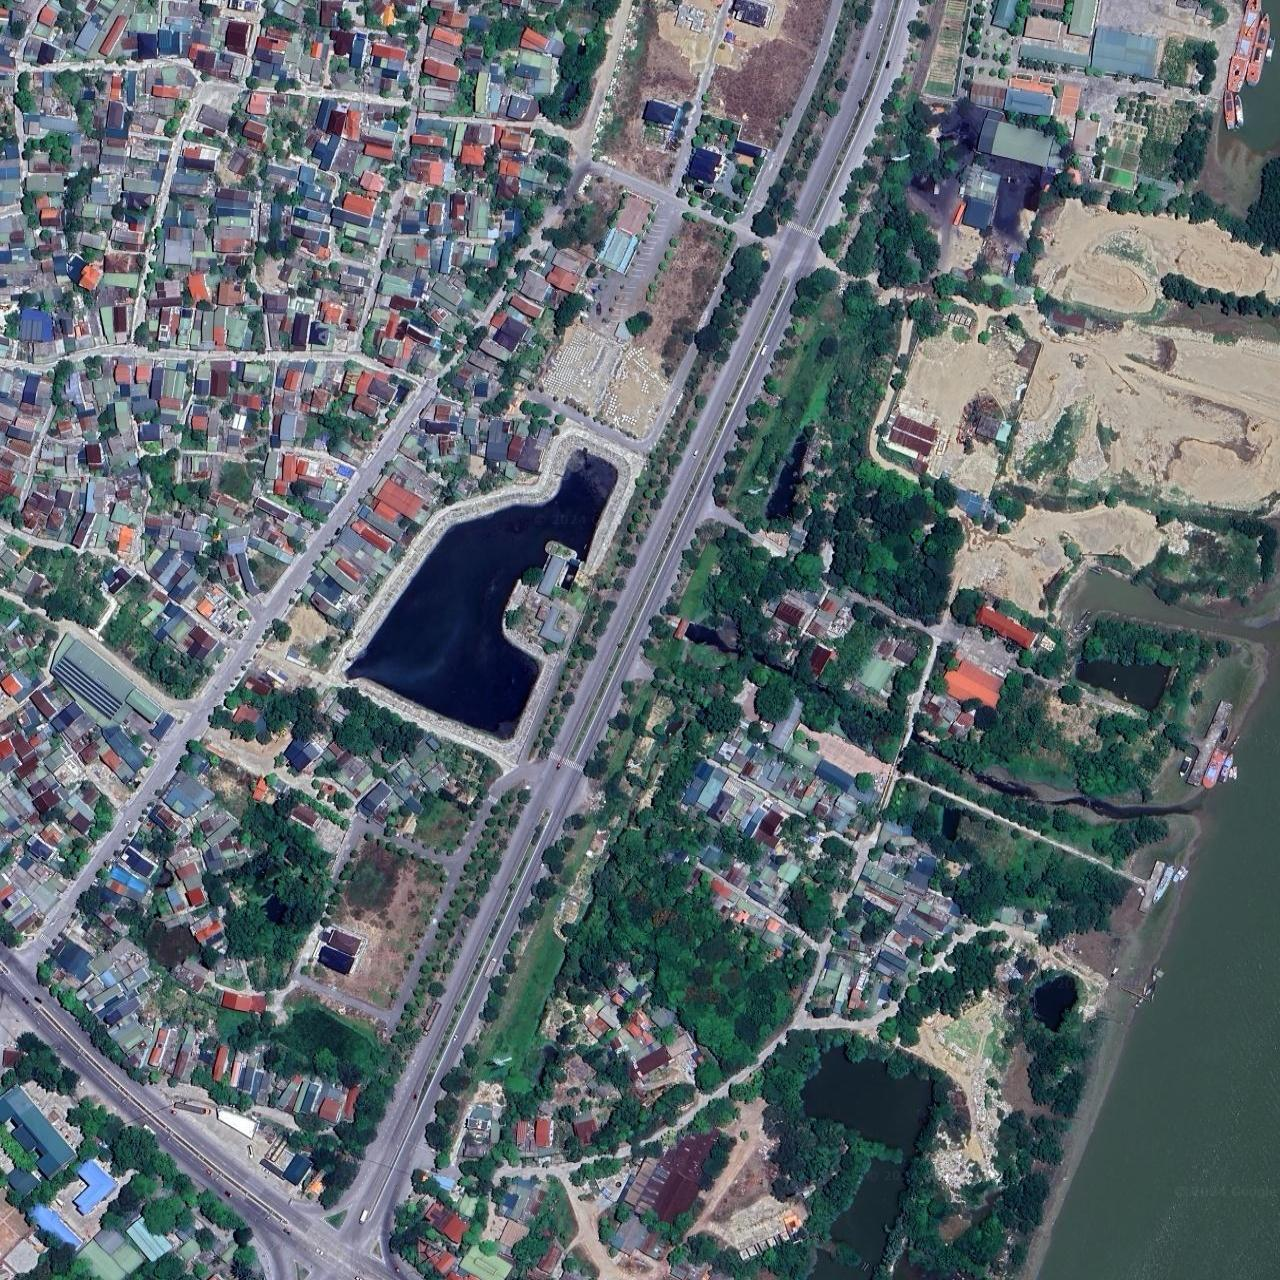greenery: (472, 100, 1239, 1099), (272, 781, 537, 1208), (12, 1022, 265, 1280), (210, 801, 336, 996)
house: (9, 161, 631, 1216), (1, 355, 435, 966), (0, 0, 565, 372), (381, 985, 699, 1280), (667, 707, 962, 1016), (920, 0, 1247, 129)
water: (1037, 518, 1280, 1280), (354, 440, 620, 748), (808, 1042, 939, 1152), (1221, 0, 1280, 155), (831, 1155, 912, 1254)
